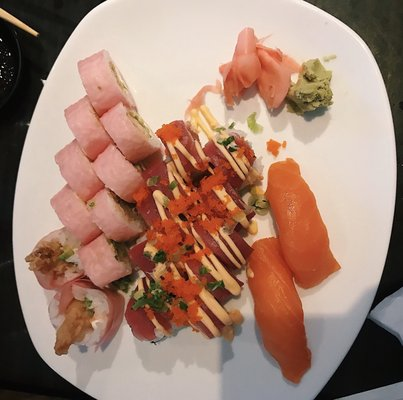pizza: (245, 159, 344, 384), (263, 158, 342, 290)
